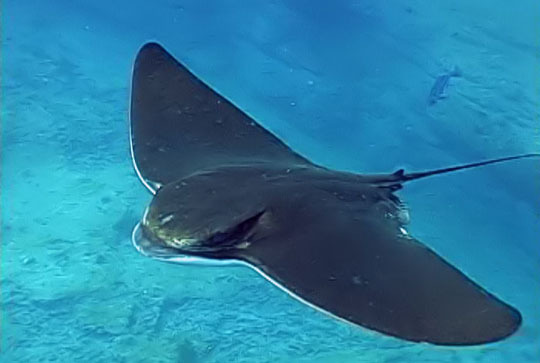Bat Ray: (66, 17, 540, 354)
